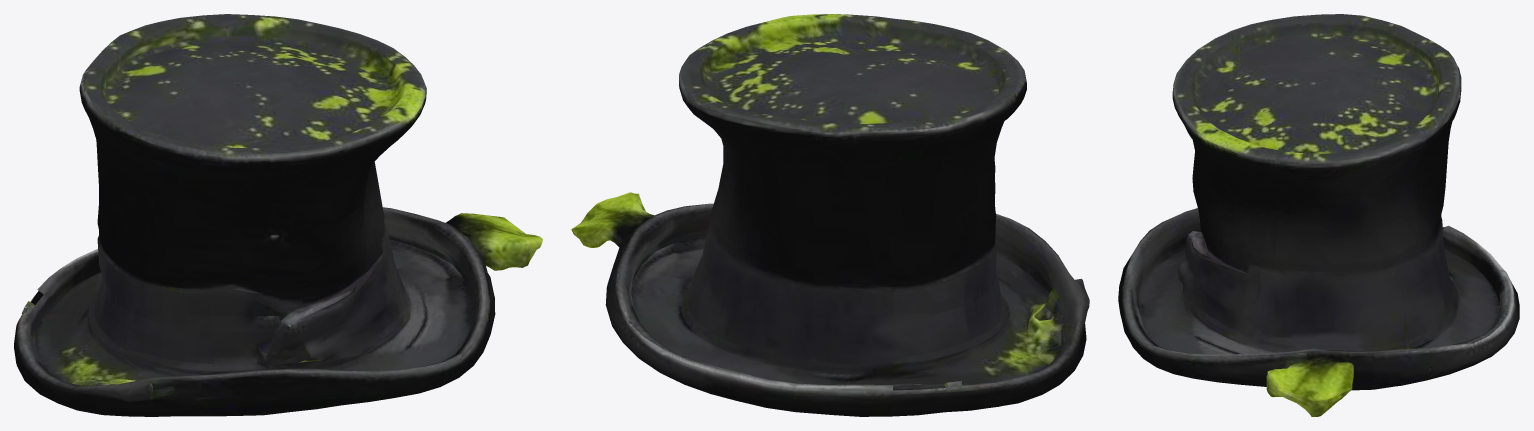
Rendered from wreck_hat.glb.
3 views of the same model, side by side, from view 1: azimuth 30°, elevation 25°; view 2: azimuth 150°, elevation 25°; view 3: azimuth 270°, elevation 25° (orthographic). The views are drawn at different scales.
Visible parts, largest first — view 1: mesh_node; view 2: mesh_node; view 3: mesh_node.
Part boxes in pixels (x1,y1,x2,y2): mesh_node: [14, 14, 542, 416]; mesh_node: [571, 14, 1089, 416]; mesh_node: [1118, 14, 1519, 416].
Size of the model in its own units: 1.91 by 1.02 by 1.5.
Materials: 1 (1 with a texture image).
